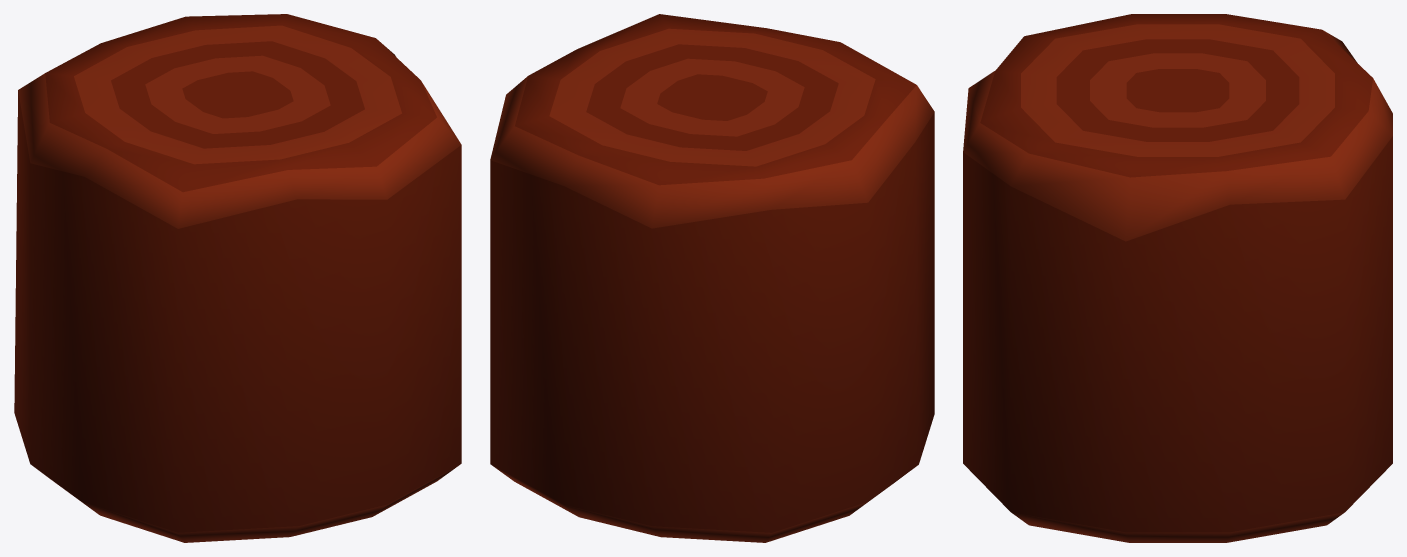
File: Obstacle_Tree_02.fbx
3 views of the same model, side by side, from view 1: azimuth 30°, elevation 25°; view 2: azimuth 150°, elevation 25°; view 3: azimuth 270°, elevation 25° (orthographic). The views are drawn at different scales.
Parts seen in each view (by area): view 1: Obstacle_Tree_02; view 2: Obstacle_Tree_02; view 3: Obstacle_Tree_02.
Boxes of the visible parts, <box> form: Obstacle_Tree_02: <box>14,14,461,542</box>; Obstacle_Tree_02: <box>490,14,934,542</box>; Obstacle_Tree_02: <box>963,14,1392,542</box>.
Bounding box in the file's own units: 0.2176 × 0.2077 × 0.2176.
